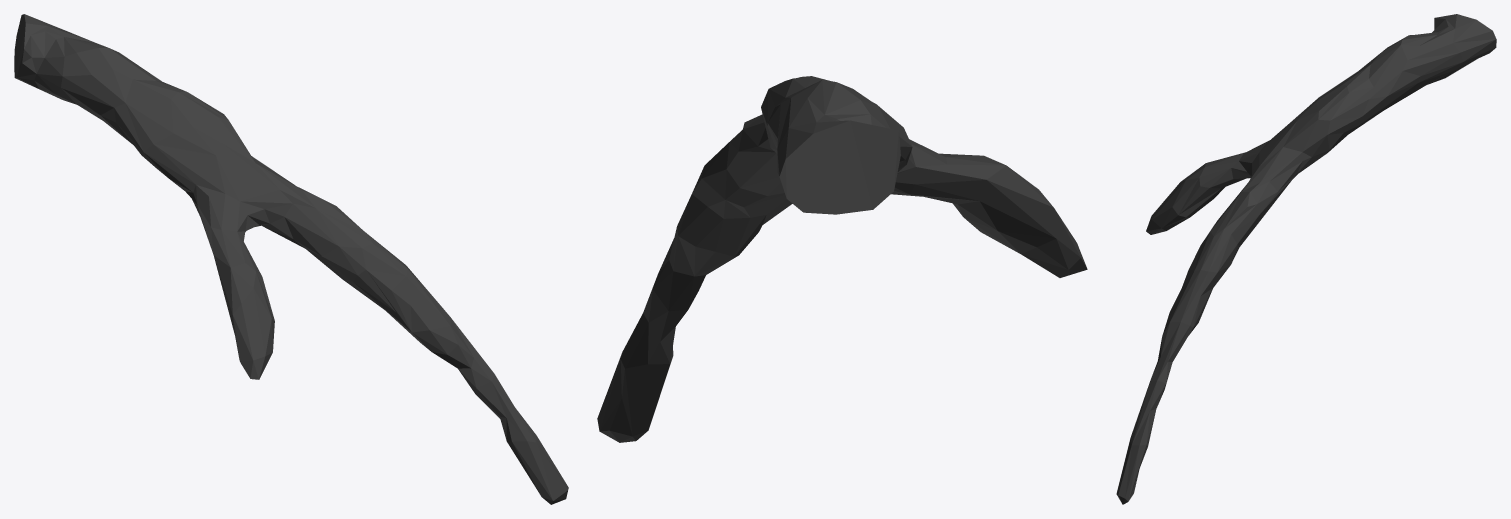
The model's file is Left_caudal_part_cranial_lobe_bronchus.glb.
3 views of the same model, side by side, from view 1: azimuth 30°, elevation 25°; view 2: azimuth 150°, elevation 25°; view 3: azimuth 270°, elevation 25° (orthographic). The views are drawn at different scales.
Visible parts, largest first — view 1: Left_caudal_part_cranial_lobe_bronchus; view 2: Left_caudal_part_cranial_lobe_bronchus; view 3: Left_caudal_part_cranial_lobe_bronchus.
Boxes of the visible parts, x1,y1,x2,y2 form: Left_caudal_part_cranial_lobe_bronchus: (14, 14, 568, 504); Left_caudal_part_cranial_lobe_bronchus: (597, 76, 1087, 442); Left_caudal_part_cranial_lobe_bronchus: (1116, 14, 1496, 504).
Bounding box in the file's own units: 1.38 × 1.5 × 1.48.
1 material, 1 textured.
